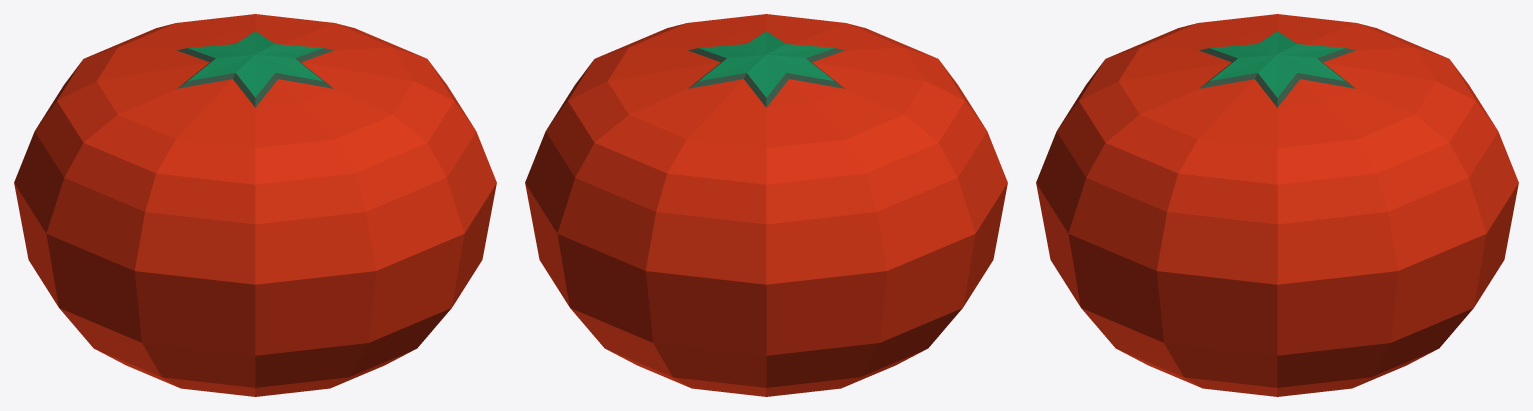
File: tomatoe.fbx
3 renders of one model, left to right at view 1: azimuth 30°, elevation 25°; view 2: azimuth 150°, elevation 25°; view 3: azimuth 270°, elevation 25°, orthographic.
Parts seen in each view (by area): view 1: tomatoe; view 2: tomatoe; view 3: tomatoe.
Boxes of the visible parts, x1,y1,x2,y2 form: tomatoe: [14, 14, 496, 396]; tomatoe: [525, 14, 1007, 396]; tomatoe: [1036, 14, 1518, 396].
Size of the model in its own units: 111 by 77.9 by 111.
